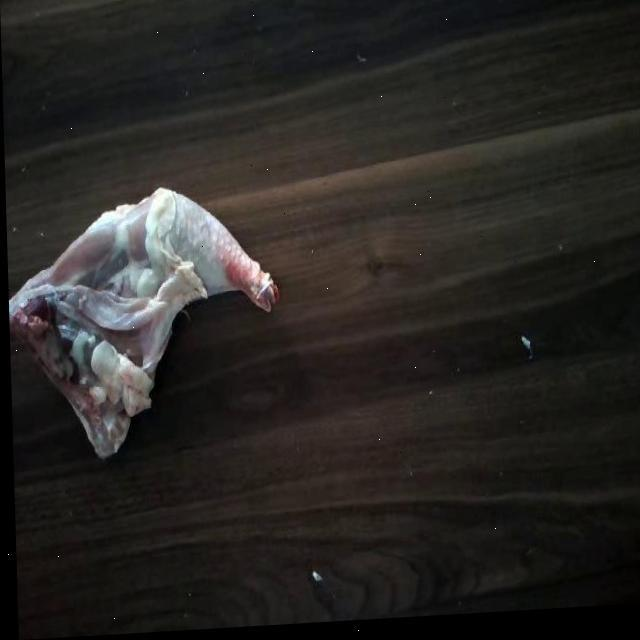quater: (7, 177, 294, 484)
